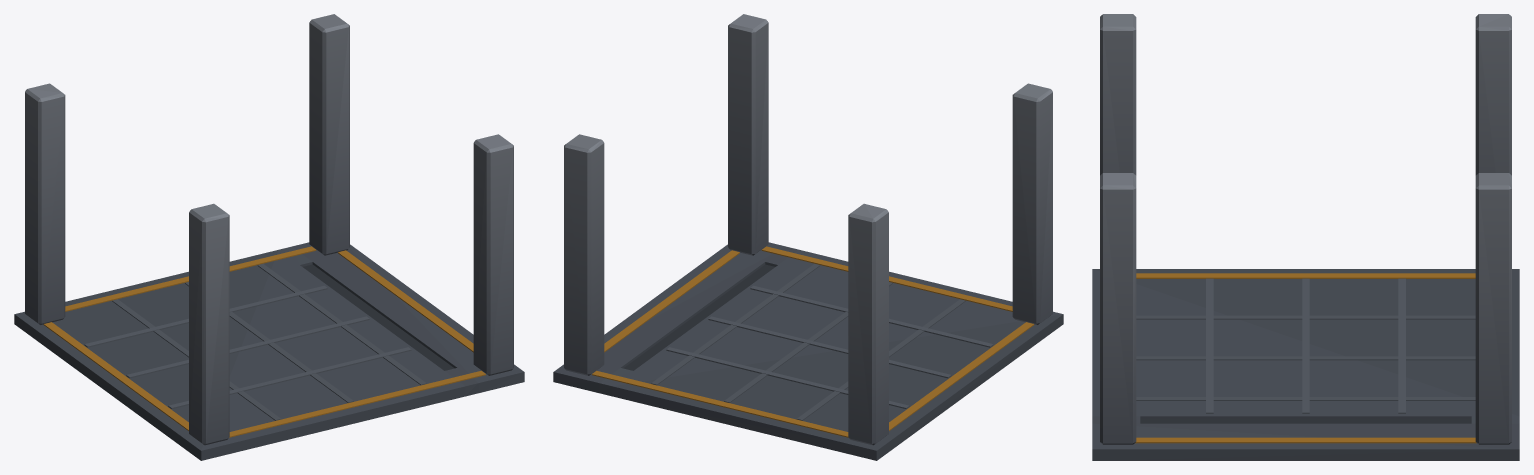
File: corridor-4way.glb
3 views of the same model, side by side, from view 1: azimuth 30°, elevation 25°; view 2: azimuth 150°, elevation 25°; view 3: azimuth 270°, elevation 25° (orthographic). The views are drawn at different scales.
Parts seen in each view (by area): view 1: corridor_4way; view 2: corridor_4way; view 3: corridor_4way.
Boxes of the visible parts, x1,y1,x2,y2 form: corridor_4way: (14,14,524,460); corridor_4way: (553,14,1063,460); corridor_4way: (1092,14,1519,460).
Size of the model in its own units: 4 by 2.8 by 4.
